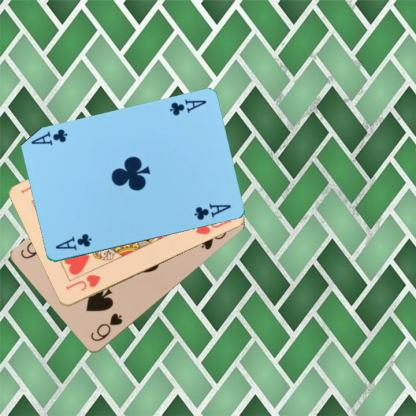6s: (88, 310, 124, 343)
Ac: (166, 96, 208, 118), (53, 231, 93, 252)
Jh: (63, 272, 102, 293)
